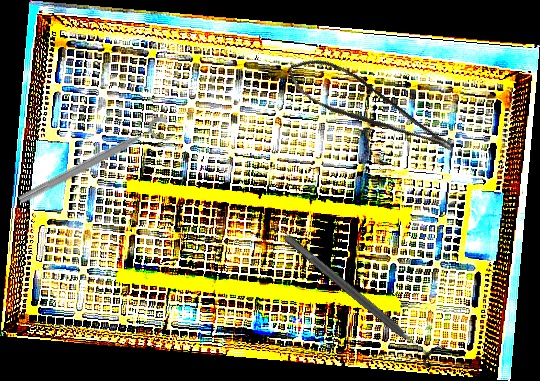Fixation Ring: (275, 224, 449, 372), (15, 113, 177, 217)
Micro Scissor: (280, 41, 458, 181)
